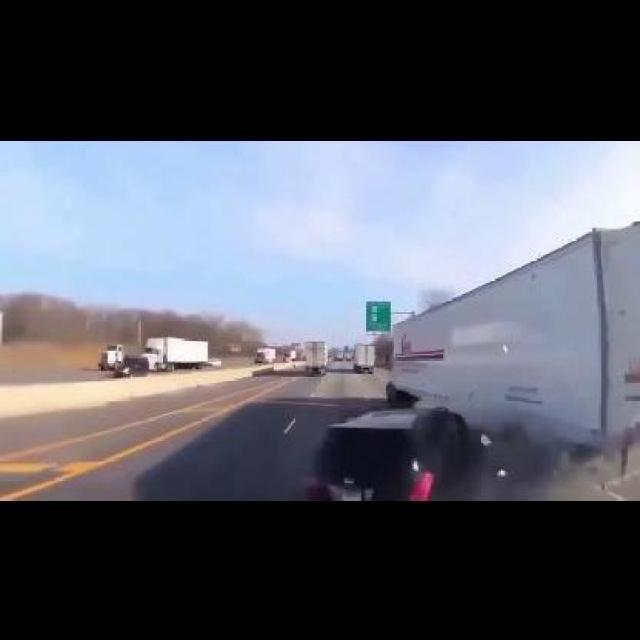accident: (295, 206, 640, 499)
